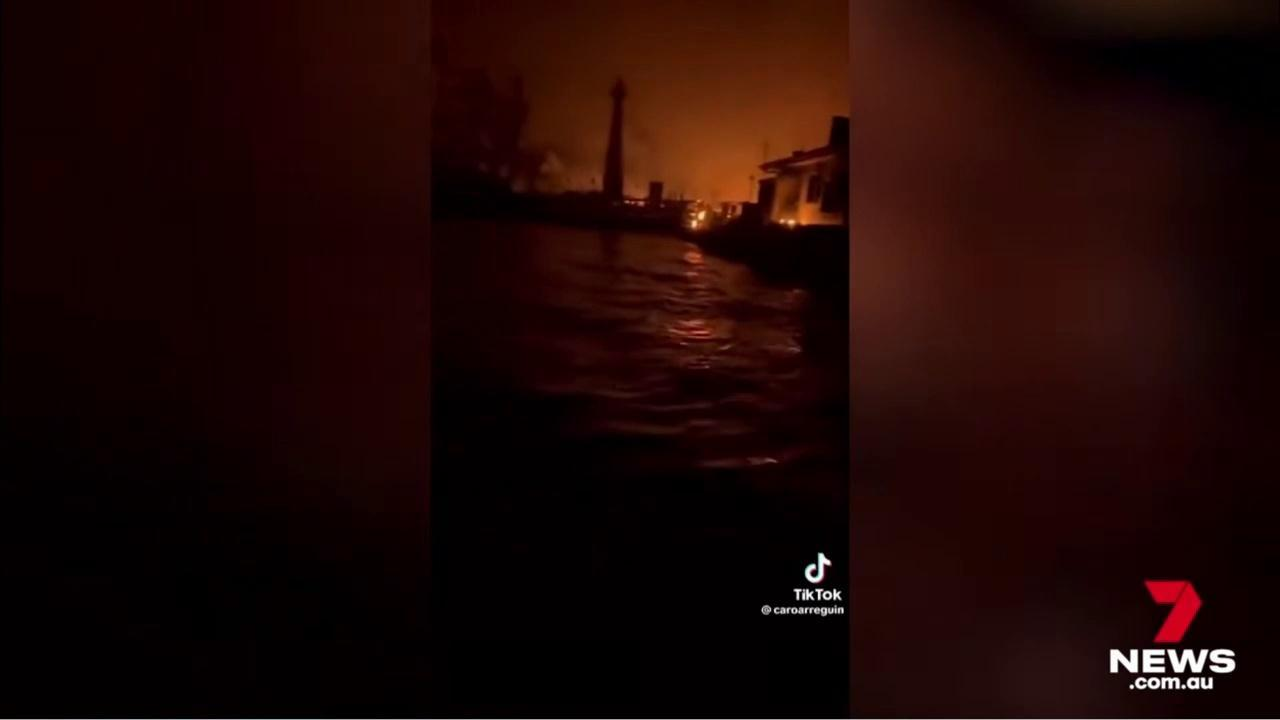fire: (686, 209, 709, 228), (777, 217, 798, 227)
smoke: (432, 2, 849, 226)
